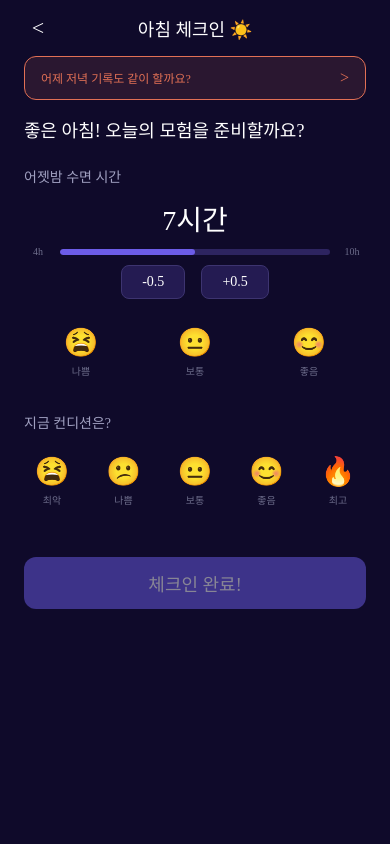
Scenario: 플로우 3: 체크인 › 3.1 아침 체크인 (04:00~13:59) › 수면 시간 +0.5 / -0.5 버튼으로 조정 가능
The width and height of the screenshot is (390, 844).
Expected: the text "7시간" is shown, [162, 205, 228, 236]
Click the text "+0.5" at {"x": 235, "y": 282}, box [222, 274, 248, 290]
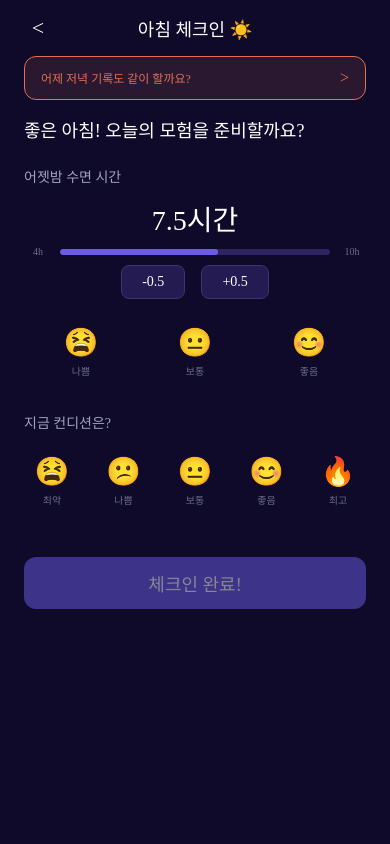
Expected: the text "7.5시간" is shown, [152, 205, 238, 236]
Click the text "-0.5" at {"x": 153, "y": 282}, box [142, 274, 164, 290]
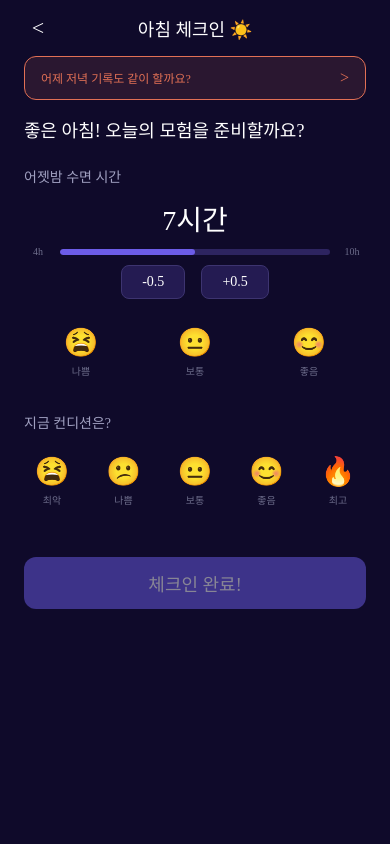
Click the text "-0.5" at {"x": 153, "y": 282}, box [142, 274, 164, 290]
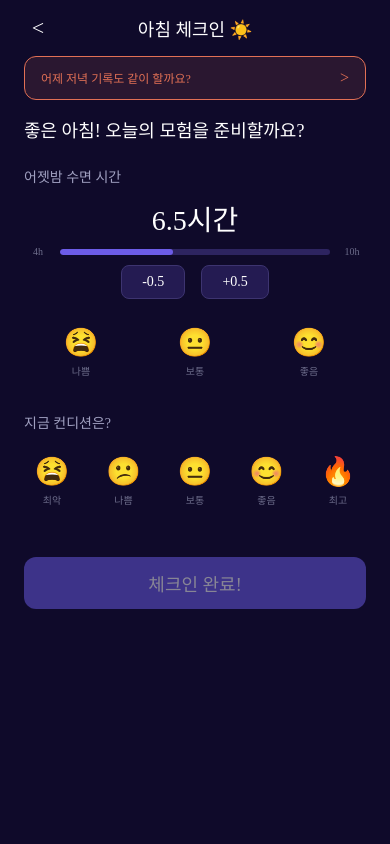
Expected: the text "6.5시간" is shown, [152, 205, 238, 236]
